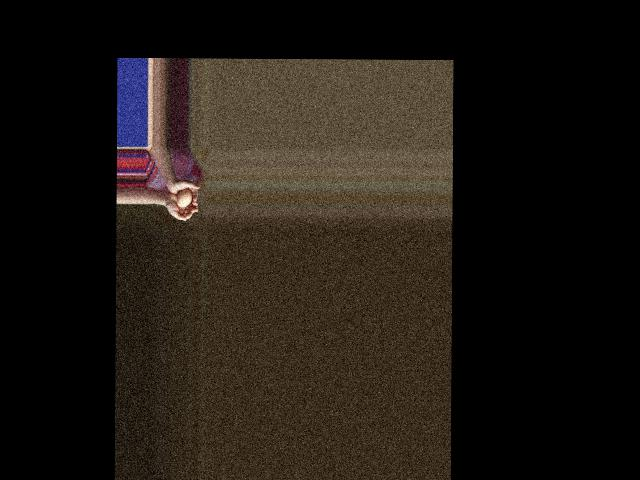egg: (177, 188, 192, 207)
